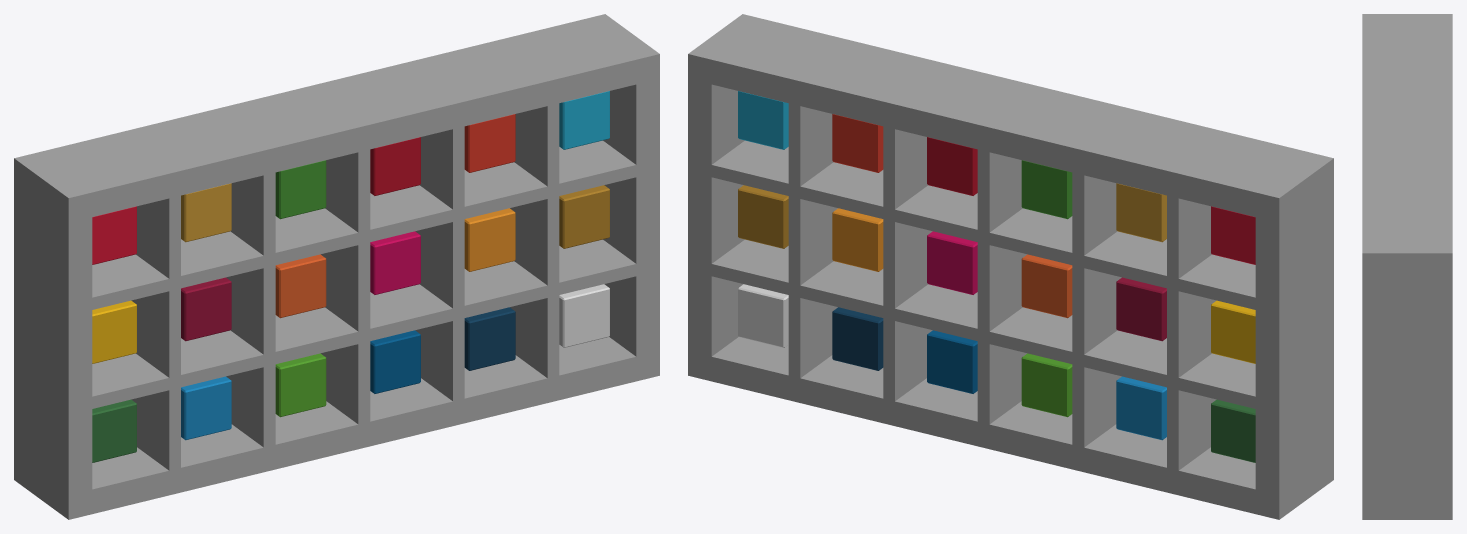
File: GlobalaMalen.fbx
3 renders of one model, left to right at view 1: azimuth 30°, elevation 25°; view 2: azimuth 150°, elevation 25°; view 3: azimuth 270°, elevation 25°, orthographic. The views are drawn at different scales.
Parts seen in each view (by area): view 1: Bookshelf, Mål17, Mål11, Mål15, Mål09, Mål18, Mål12, Mål16, Mål10, Mål14, Mål08, Mål03 (+7 smaller); view 2: Bookshelf, Mål17, Mål11, Mål15, Mål09, Mål18, Mål12, Mål16, Mål10, Mål14, Mål08, Mål03 (+7 smaller); view 3: Bookshelf.
Part boxes in pixels (left/top/right/bottom): Bookshelf: left=14, top=14, right=659, bottom=519; Mål17: left=464, top=307, right=515, bottom=370; Mål11: left=464, top=208, right=515, bottom=271; Mål15: left=275, top=353, right=326, bottom=417; Mål09: left=275, top=254, right=326, bottom=318; Mål18: left=559, top=284, right=609, bottom=347; Mål12: left=559, top=185, right=609, bottom=248; Mål16: left=370, top=330, right=420, bottom=393; Mål10: left=370, top=231, right=420, bottom=294; Mål14: left=181, top=376, right=231, bottom=440; Mål08: left=181, top=277, right=231, bottom=341; Mål03: left=275, top=160, right=326, bottom=219; Bookshelf: left=688, top=14, right=1333, bottom=519; Mål17: left=832, top=307, right=883, bottom=370; Mål11: left=832, top=208, right=883, bottom=271; Mål15: left=1021, top=353, right=1072, bottom=417; Mål09: left=1021, top=254, right=1072, bottom=318; Mål18: left=738, top=284, right=788, bottom=347; Mål12: left=738, top=185, right=788, bottom=248; Mål16: left=927, top=330, right=977, bottom=393; Mål10: left=927, top=231, right=977, bottom=294; Mål14: left=1116, top=376, right=1166, bottom=440; Mål08: left=1116, top=277, right=1166, bottom=341; Mål03: left=1021, top=160, right=1072, bottom=219; Bookshelf: left=1362, top=14, right=1452, bottom=519.
Size of the model in its own units: 125 by 65 by 20.
